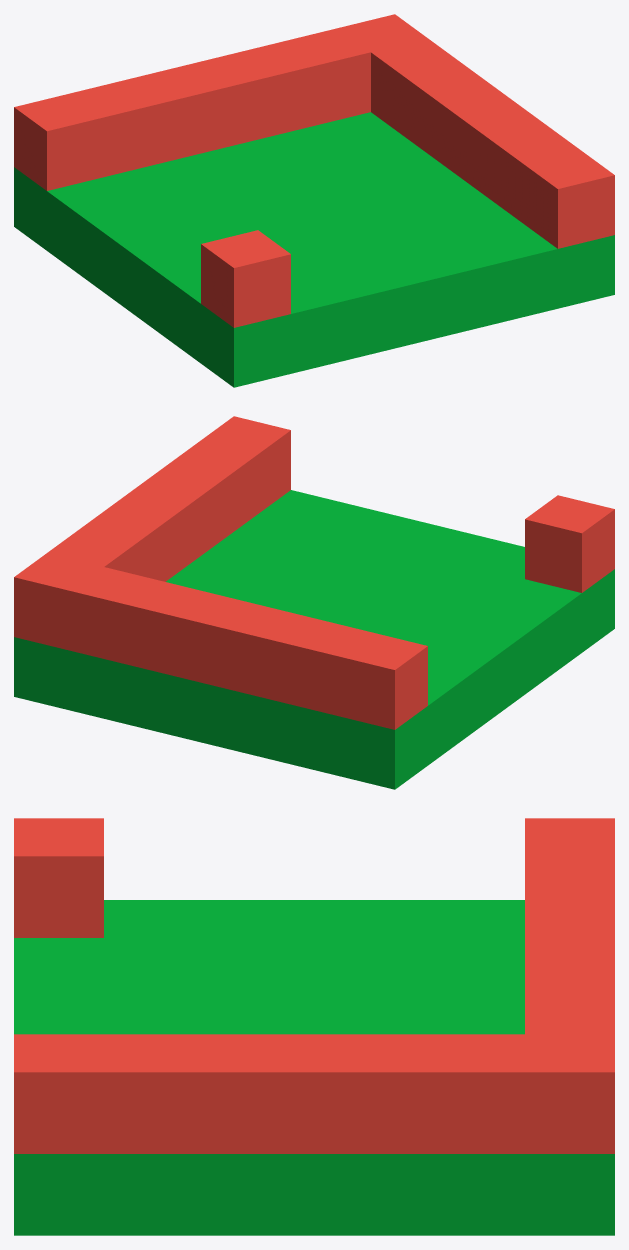
Rendered from corner_single.fbx.
3 views of the same model, one above another, from view 1: azimuth 30°, elevation 25°; view 2: azimuth 150°, elevation 25°; view 3: azimuth 270°, elevation 25° (orthographic). The views are drawn at different scales.
Visible parts, largest first — view 1: green_straight_single_edge.001, side, side.002, side.001; view 2: green_straight_single_edge.001, side, side.002, side.001; view 3: green_straight_single_edge.001, side.002, side, side.001.
Boxes of the visible parts, x1=… form: green_straight_single_edge.001: x1=14, y1=112, x2=614, y2=387; side: x1=14, y1=14, x2=427, y2=190; side.002: x1=371, y1=38, x2=614, y2=248; side.001: x1=201, y1=230, x2=290, y2=327; green_straight_single_edge.001: x1=14, y1=490, x2=614, y2=789; side: x1=14, y1=553, x2=427, y2=729; side.002: x1=14, y1=416, x2=290, y2=629; side.001: x1=525, y1=495, x2=614, y2=592; green_straight_single_edge.001: x1=14, y1=900, x2=614, y2=1235; side.002: x1=14, y1=1034, x2=614, y2=1153; side: x1=525, y1=818, x2=614, y2=1153; side.001: x1=14, y1=818, x2=103, y2=937.
Bounding box in the file's own units: 200 × 60 × 200.
